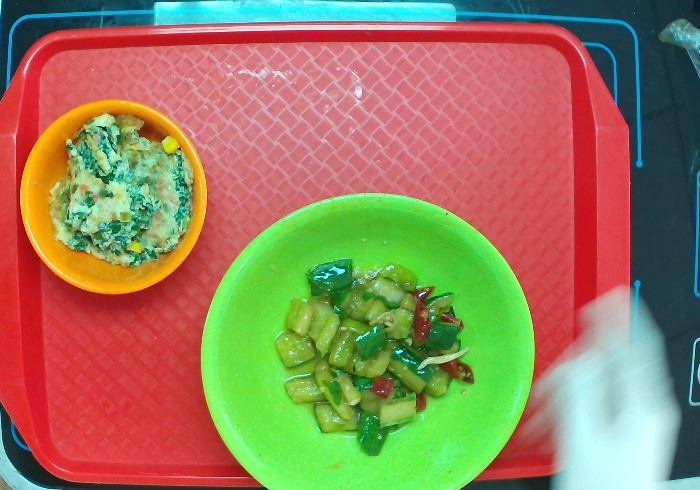YKMZ-Ju_Se_Yuan_Wan: (21, 98, 208, 298)
YKMZ-Lv_Se_Tang_Wan: (199, 188, 538, 489)
